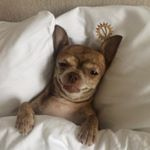puppy: (12, 22, 127, 145)
